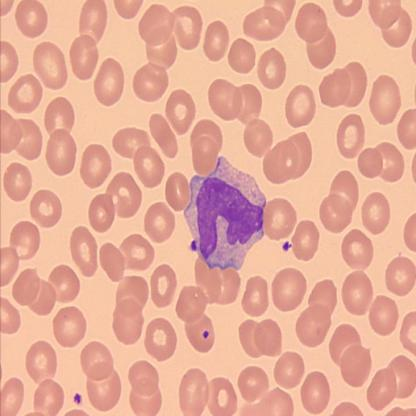Monocyte: (182, 153, 268, 273)
